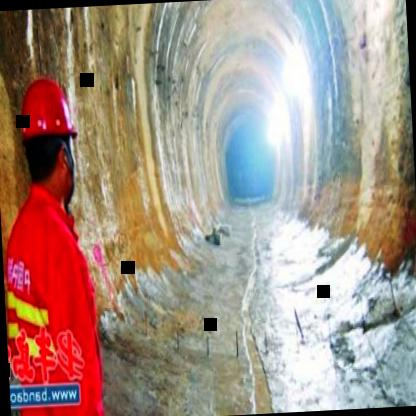helmet: (11, 68, 81, 202)
